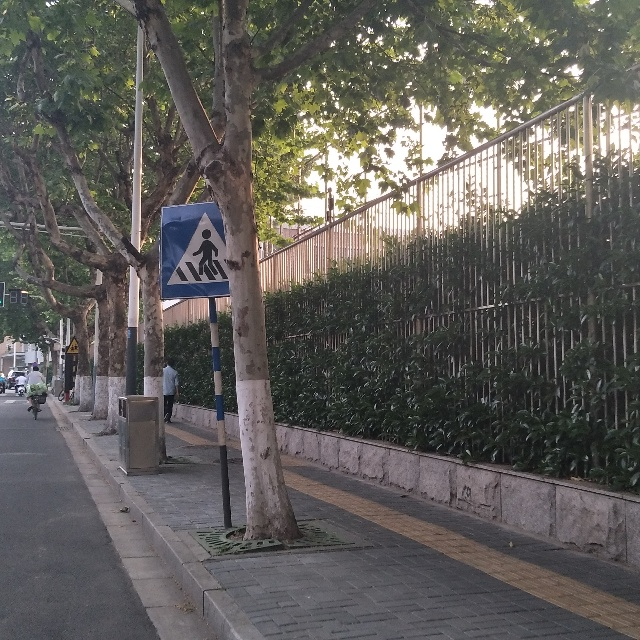crosswalk: (159, 198, 248, 301)
